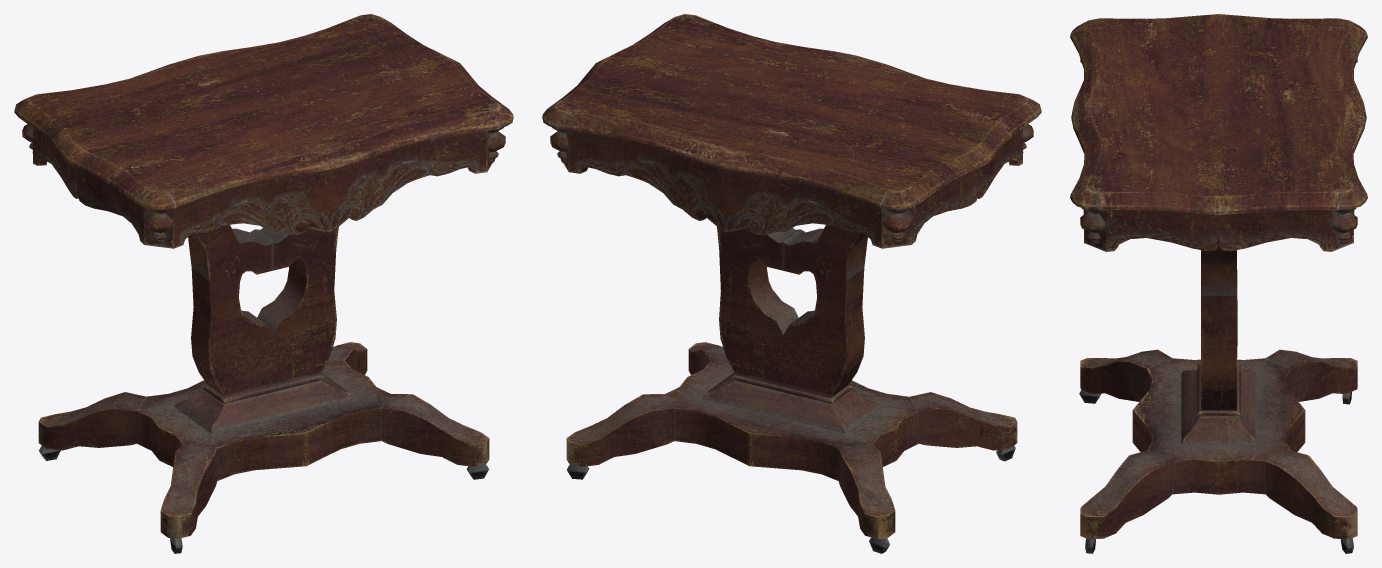
The model's file is 125_Table.fbx.
3 views of the same model, side by side, from view 1: azimuth 30°, elevation 25°; view 2: azimuth 150°, elevation 25°; view 3: azimuth 270°, elevation 25° (orthographic).
Visible parts, largest first — view 1: LOD_1_Group_0_Sub_1__sm30_125_Table01A_A_Mat; view 2: LOD_1_Group_0_Sub_1__sm30_125_Table01A_A_Mat; view 3: LOD_1_Group_0_Sub_1__sm30_125_Table01A_A_Mat.
Boxes of the visible parts, x1,y1,x2,y2 form: LOD_1_Group_0_Sub_1__sm30_125_Table01A_A_Mat: [14, 14, 513, 553]; LOD_1_Group_0_Sub_1__sm30_125_Table01A_A_Mat: [542, 14, 1041, 553]; LOD_1_Group_0_Sub_1__sm30_125_Table01A_A_Mat: [1070, 14, 1367, 553].
Bounding box in the file's own units: 0.9444 × 0.8387 × 0.6099.
